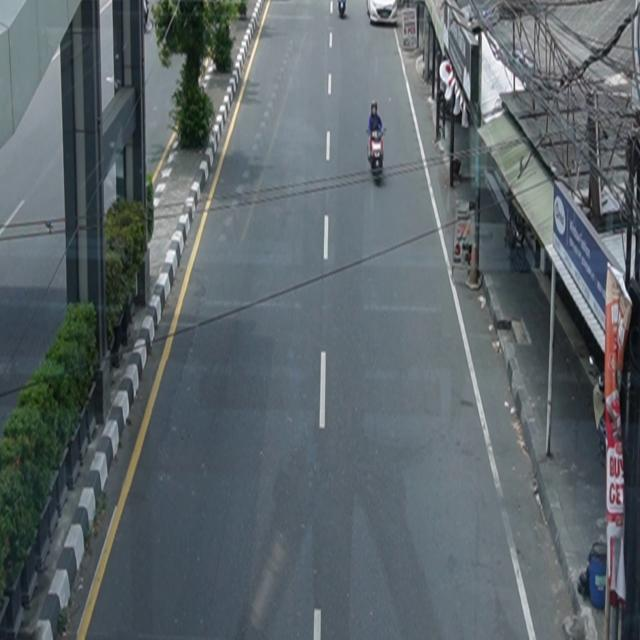car: (366, 1, 398, 26)
